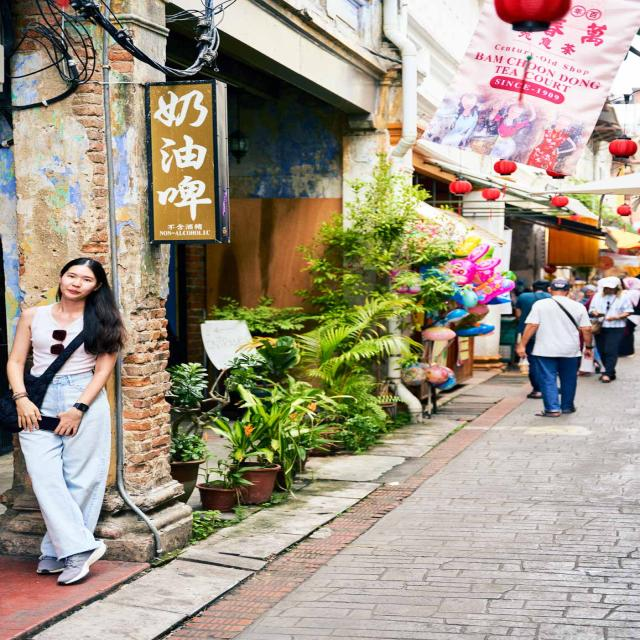Person: (4, 248, 144, 590), (514, 280, 587, 422)
